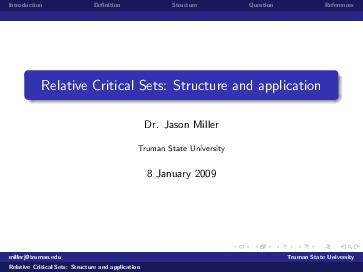title: (40, 71, 332, 104)
